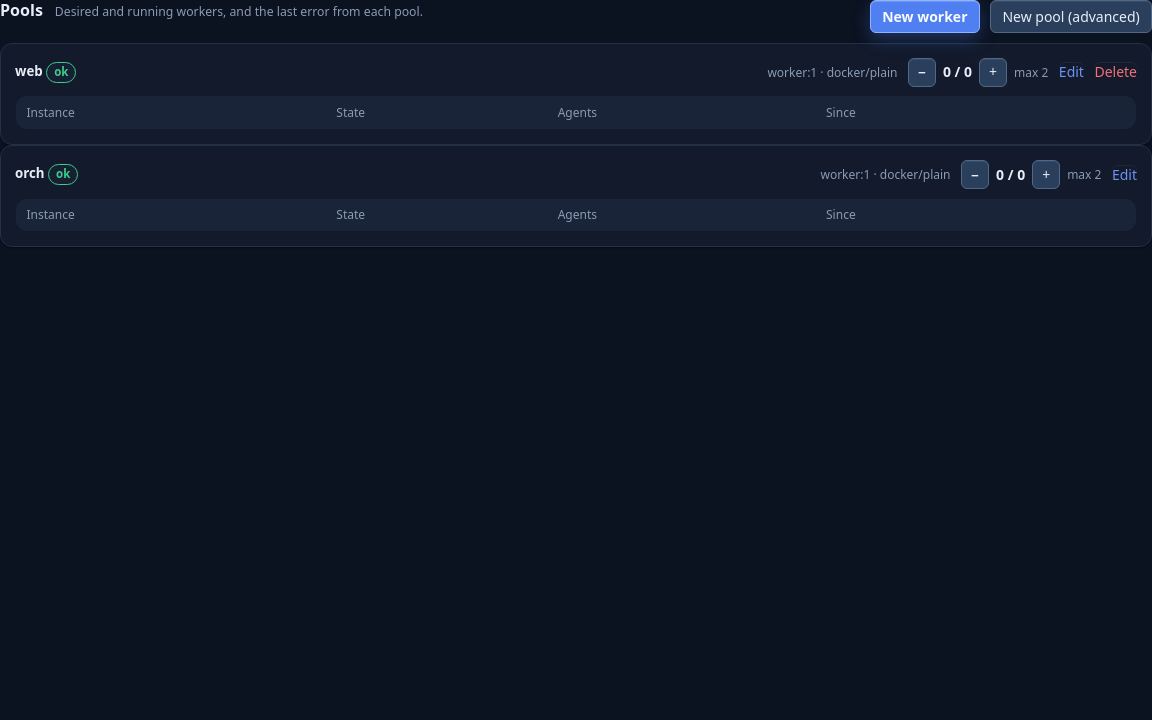
Scenario: Pools delete › shows the server's live-instance conflict and keeps the pool
Click the button "Delete" at (1116, 72), box left=1094, top=62, right=1137, bottom=82
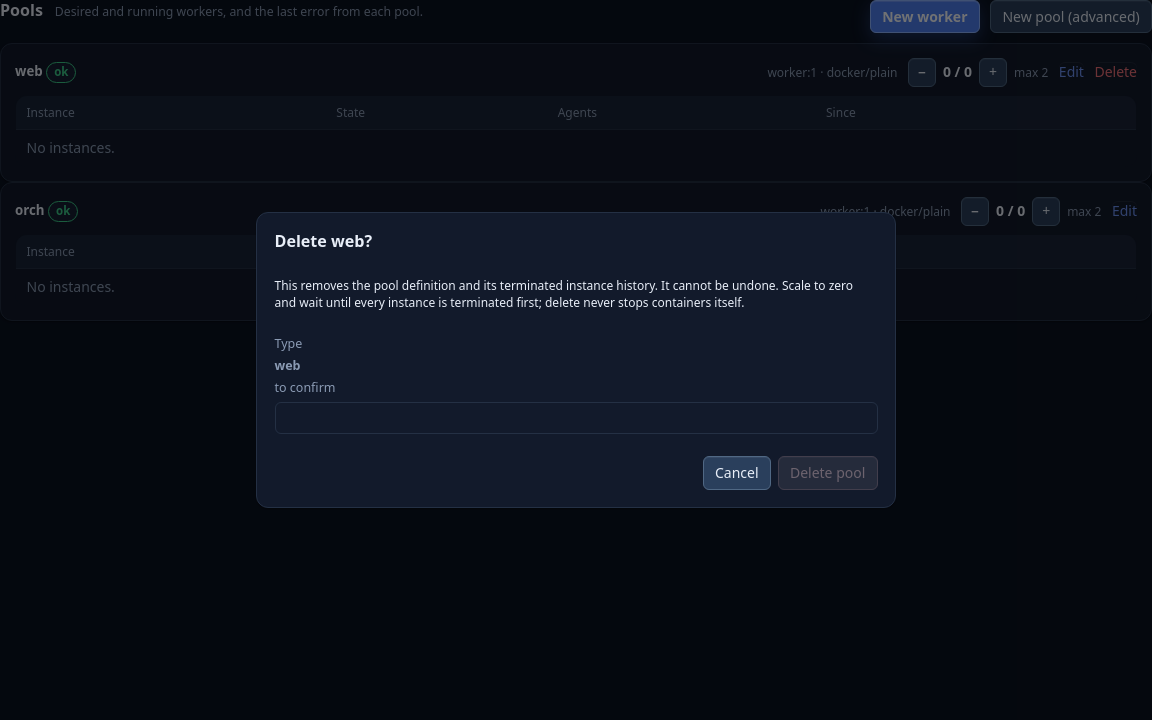
Type "web" into the field named "Confirm pool name" at (576, 418), box left=274, top=402, right=878, bottom=434
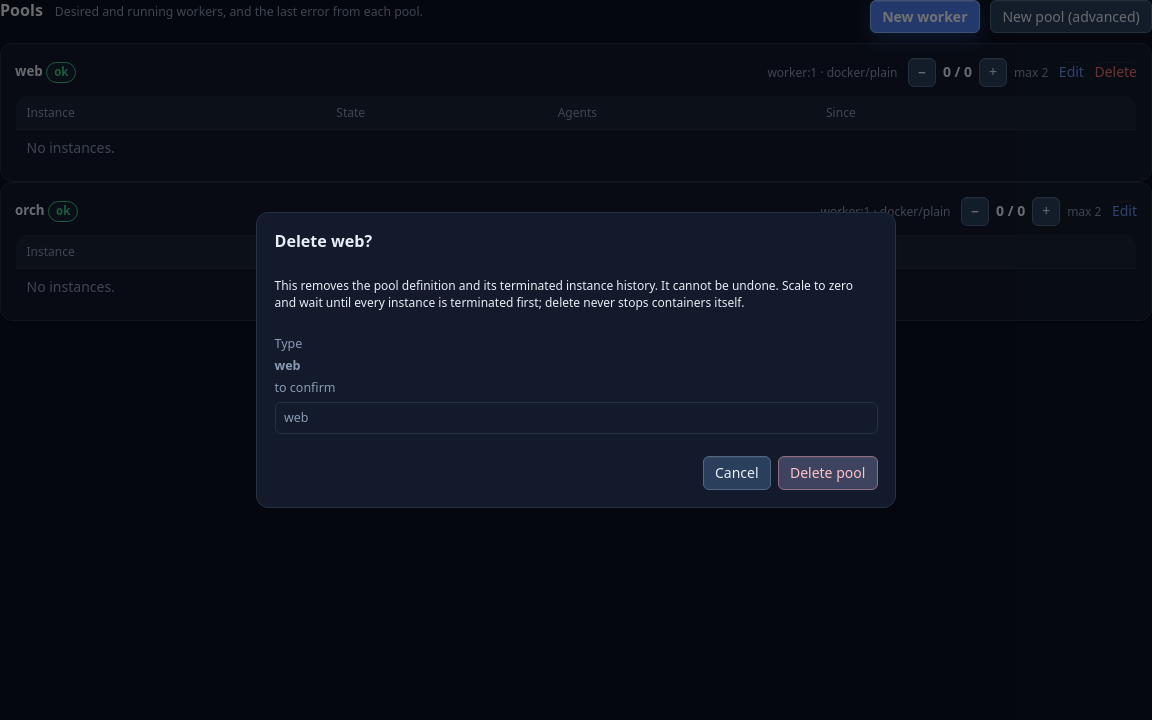
Click the button "Delete pool" at (828, 473), box left=778, top=456, right=878, bottom=490
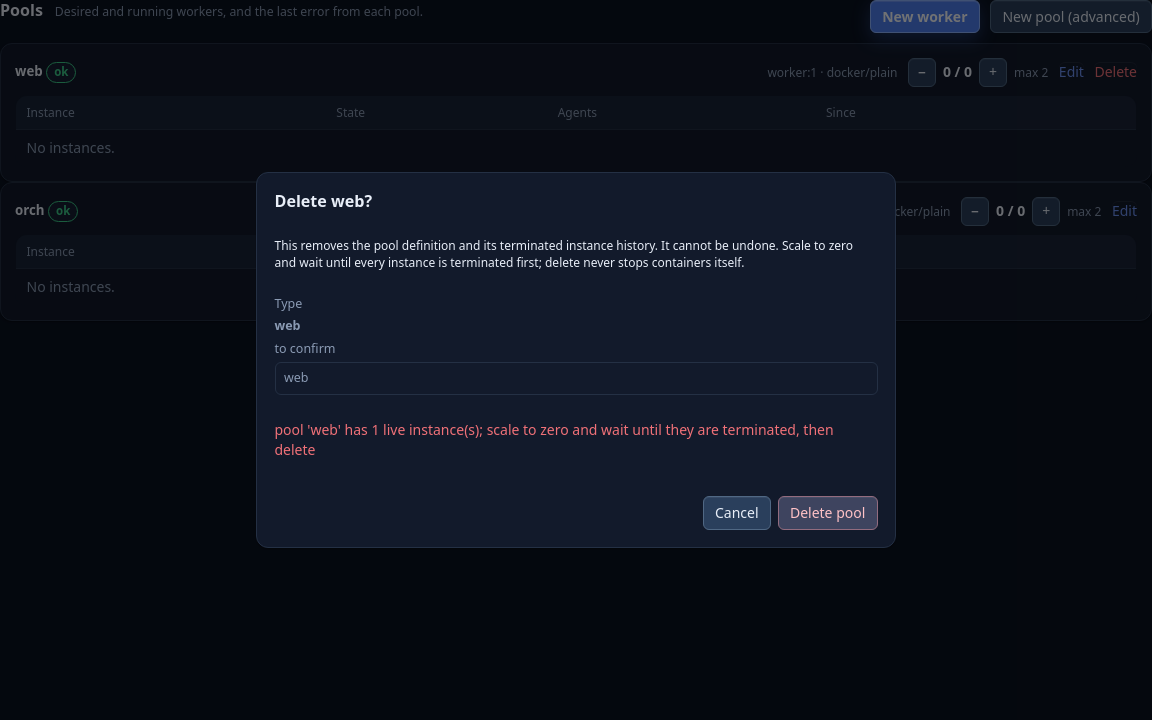
Result: the button "Delete pool" is enabled at left=778, top=496, right=878, bottom=530
Result: the message shows "live instance" at left=274, top=420, right=834, bottom=459
